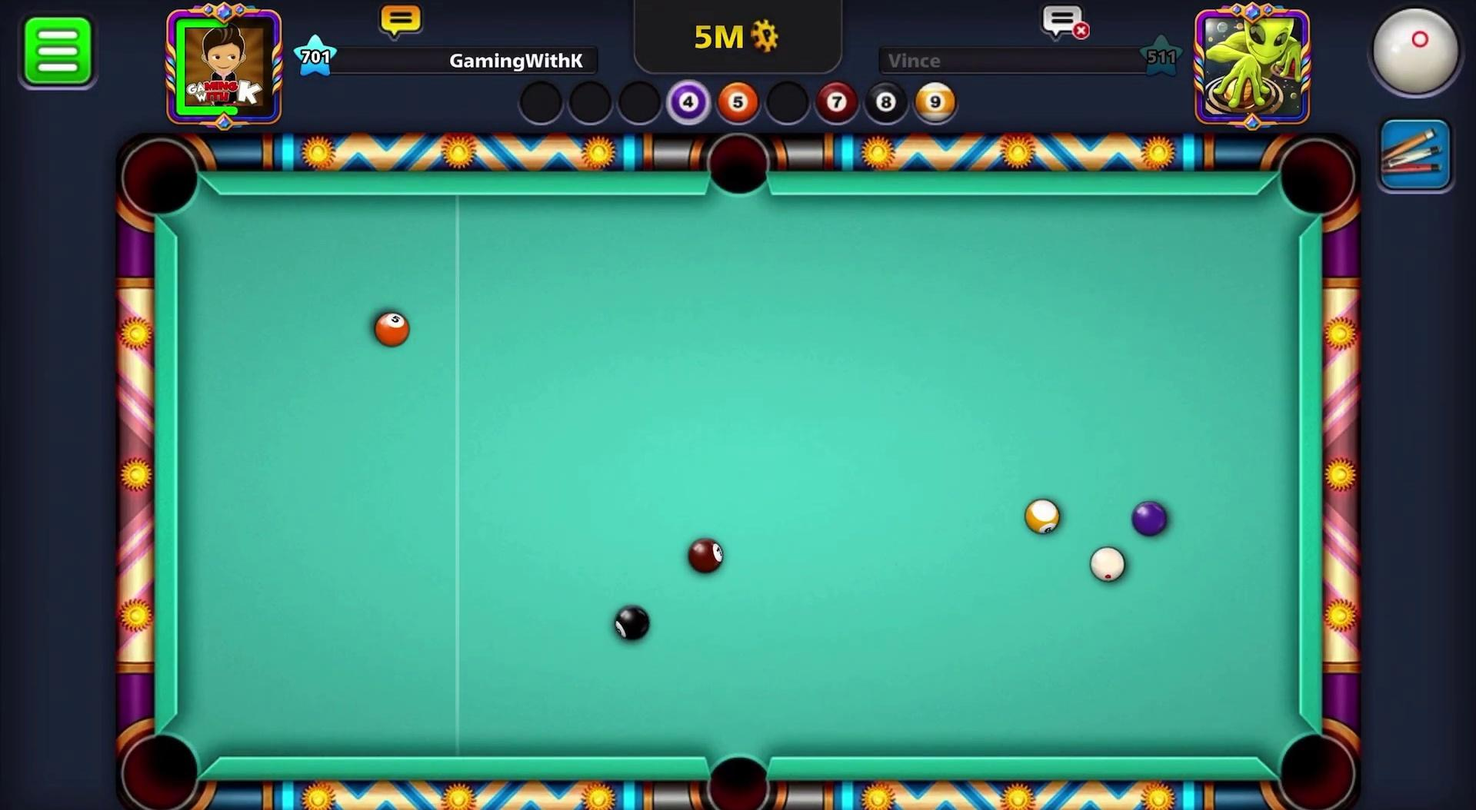Ball: (678, 532, 733, 580), (605, 602, 659, 649), (369, 305, 419, 351), (1129, 497, 1172, 538), (1025, 495, 1062, 535)
Hole: (1268, 131, 1365, 229), (1266, 715, 1364, 809), (110, 719, 212, 809), (114, 131, 206, 228), (687, 739, 784, 809), (703, 127, 773, 201)
Play_Area: (175, 197, 1297, 760)
Spin: (1351, 0, 1475, 112)
White: (1087, 544, 1130, 583)
